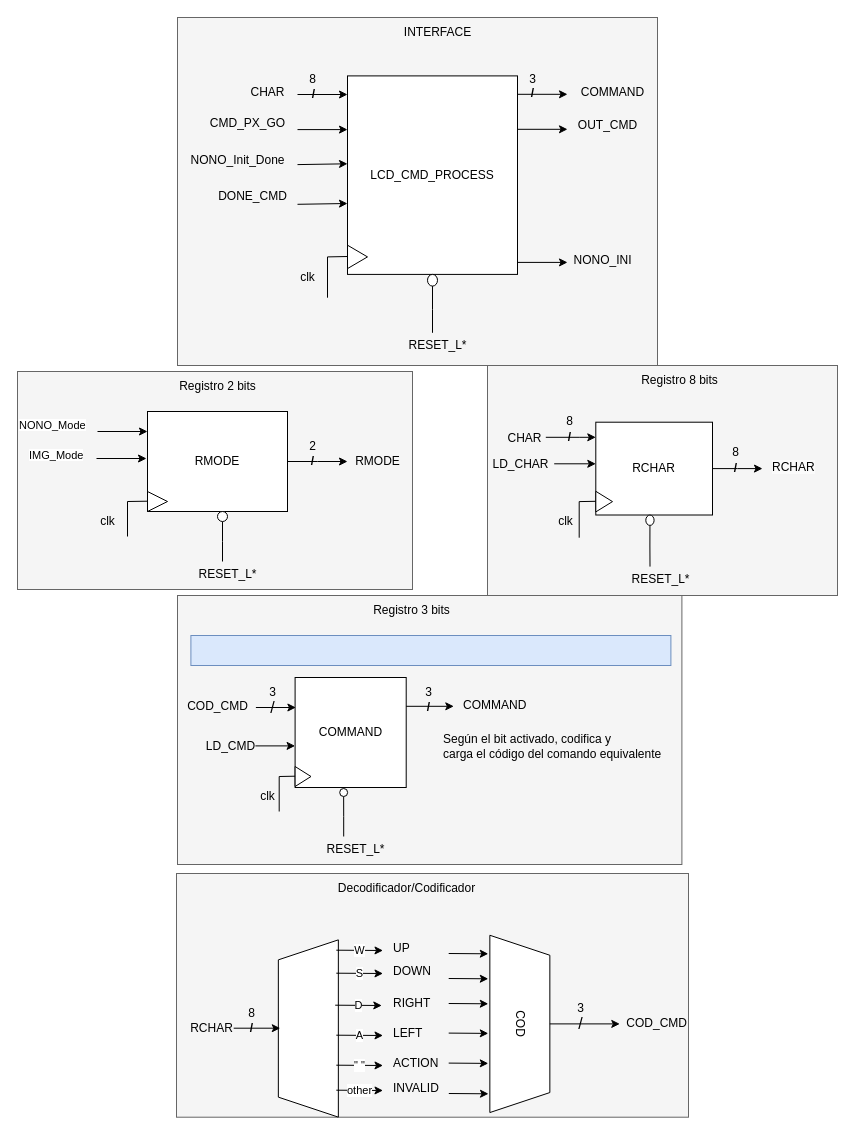
The diagram is 855 pixels wide and 1135 high, and some of its shapes have lost their labels. Here are the shapes that lost their labels. From the top down, the box of each, then its label:
(190, 634, 671, 666): 000 = UP, 001 = DOWN, 010 = LEFT, 011 = RIGHT, 100 = ACTION, 111 = INVALIDO
(277, 939, 338, 1117): DEC
